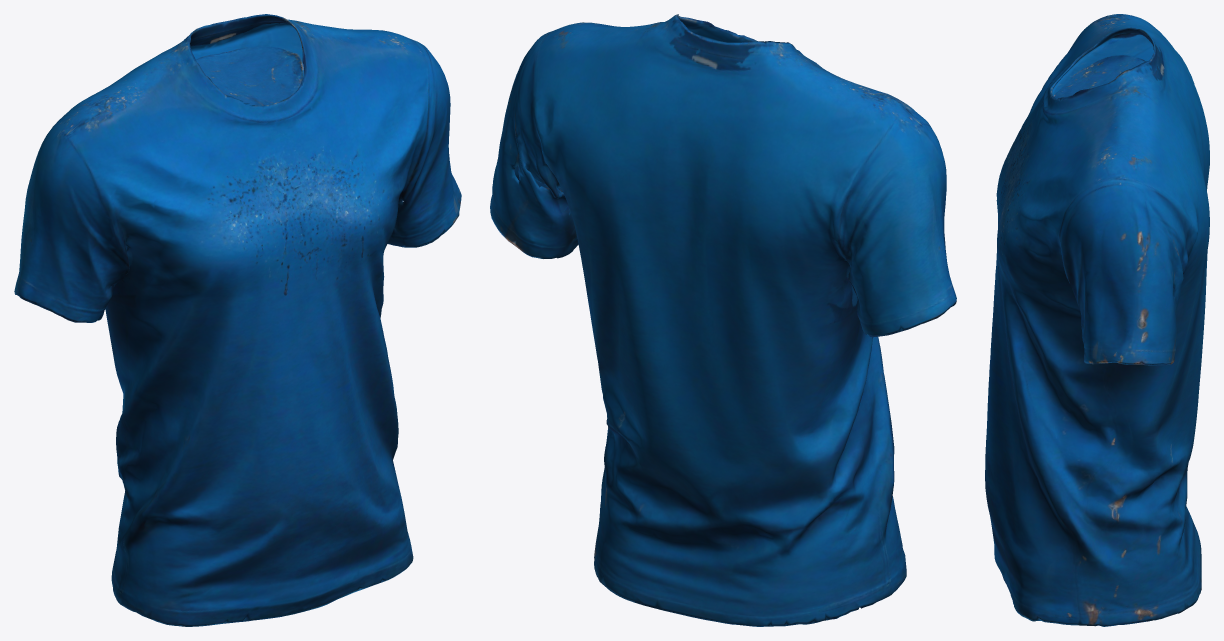
Rendered from flat_tshirt_blue_with_1108160931_refine.fbx.
The picture shows the model from 3 angles, left to right: view 1: azimuth 30°, elevation 25°; view 2: azimuth 150°, elevation 25°; view 3: azimuth 270°, elevation 25°; orthographic projection. The views are drawn at different scales.
Visible parts, largest first — view 1: Mesh_0; view 2: Mesh_0; view 3: Mesh_0.
Part boxes in pixels (x1,y1,x2,y2): Mesh_0: (14, 14, 461, 626); Mesh_0: (490, 14, 956, 626); Mesh_0: (985, 14, 1209, 626).
Size of the model in its own units: 171 by 200 by 77.94.
1 material, 1 textured.
